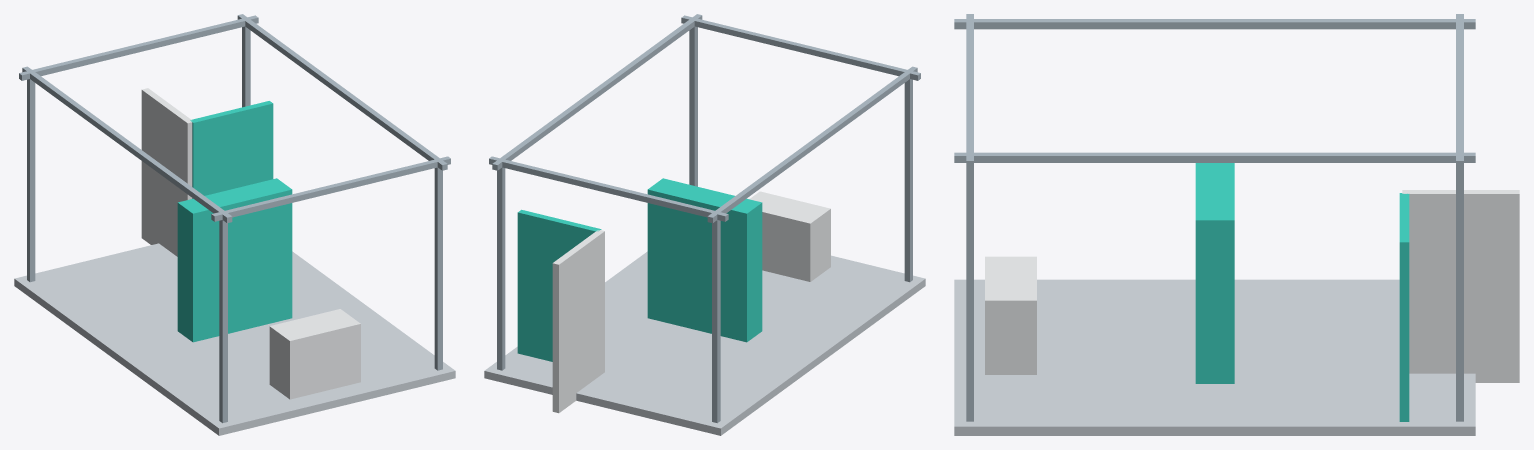
The picture shows the model from 3 angles, left to right: view 1: azimuth 30°, elevation 25°; view 2: azimuth 150°, elevation 25°; view 3: azimuth 270°, elevation 25°; orthographic projection. The views are drawn at different scales.
Visible parts, largest first — view 1: Exhibition Booth Concept; view 2: Exhibition Booth Concept; view 3: Exhibition Booth Concept.
Part boxes in pixels (<box>): Exhibition Booth Concept: <box>14,14,455,435</box>; Exhibition Booth Concept: <box>484,14,925,435</box>; Exhibition Booth Concept: <box>954,14,1519,435</box>.
Bounding box in the file's own units: 4 × 3.49 × 6.51.
